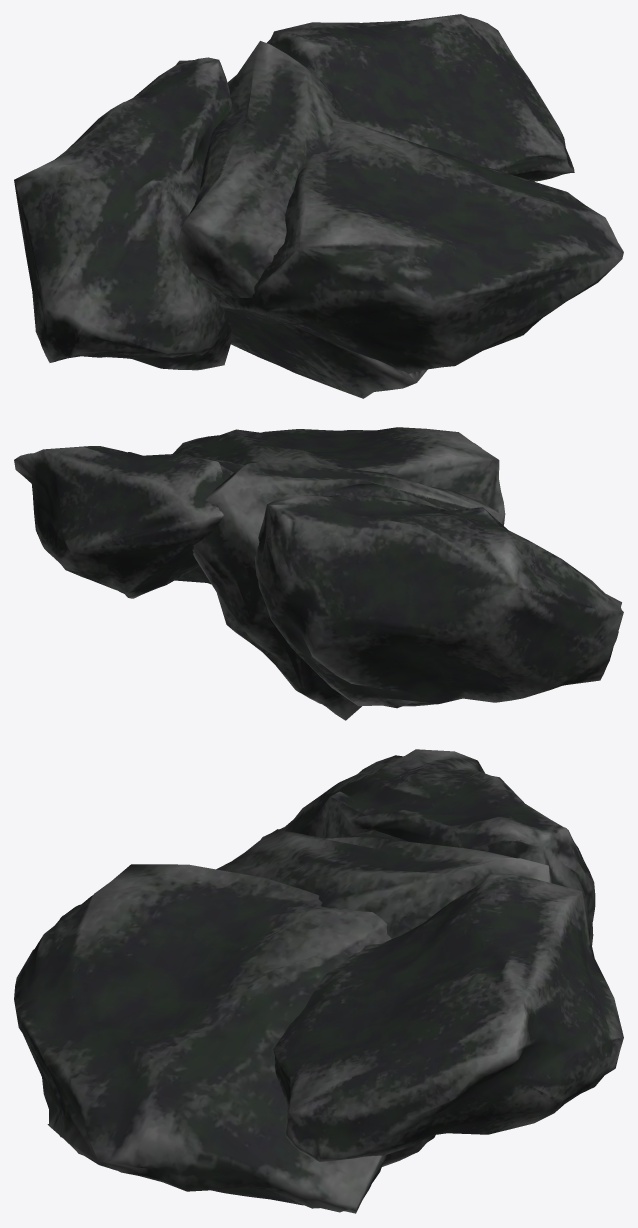
Rendered from rocks.glb.
3 views of the same model, one above another, from view 1: azimuth 30°, elevation 25°; view 2: azimuth 150°, elevation 25°; view 3: azimuth 270°, elevation 25° (orthographic). The views are drawn at different scales.
Visible parts, largest first — view 1: Rock_05, Rock_02, Rock_01, Rock_04; view 2: Rock_02, Rock_04, Rock_01, Rock_05; view 3: Rock_05, Rock_04, Rock_02, Rock_01.
Boxes of the visible parts, x1,y1,x2,y2 form: Rock_05: (219,119,623,373); Rock_02: (14,57,232,370); Rock_01: (179,41,427,398); Rock_04: (267,14,574,181); Rock_02: (254,494,623,708); Rock_04: (14,446,244,598); Rock_01: (192,462,500,720); Rock_05: (173,427,505,584); Rock_05: (14,864,391,1213); Rock_04: (273,874,623,1161); Rock_02: (260,749,595,945); Rock_01: (216,829,550,1166).
Size of the model in its own units: 11.52 by 5.29 by 8.69.
4 materials, 4 textured.
